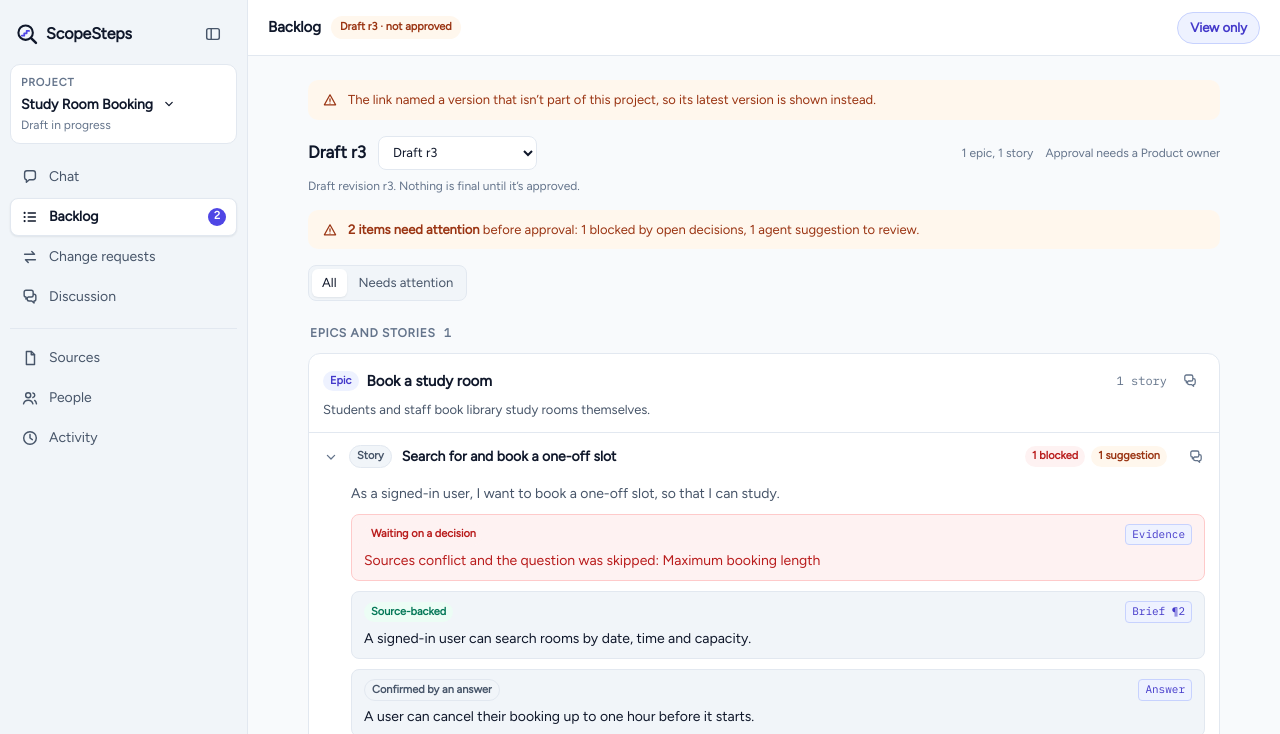
Test case: Backlog version history › shows the project’s latest version when the URL names one it does not have
The width and height of the screenshot is (1280, 734).
Expected: the heading "Draft r3" is shown, [308,140,366,165]
Expected: the text "The link named a version that isn’t part of this project, so its latest version is shown instead." is shown, [348,92,876,107]
Select "v1" in the dropdown named "Version" at (458, 152), box [378,136,537,170]
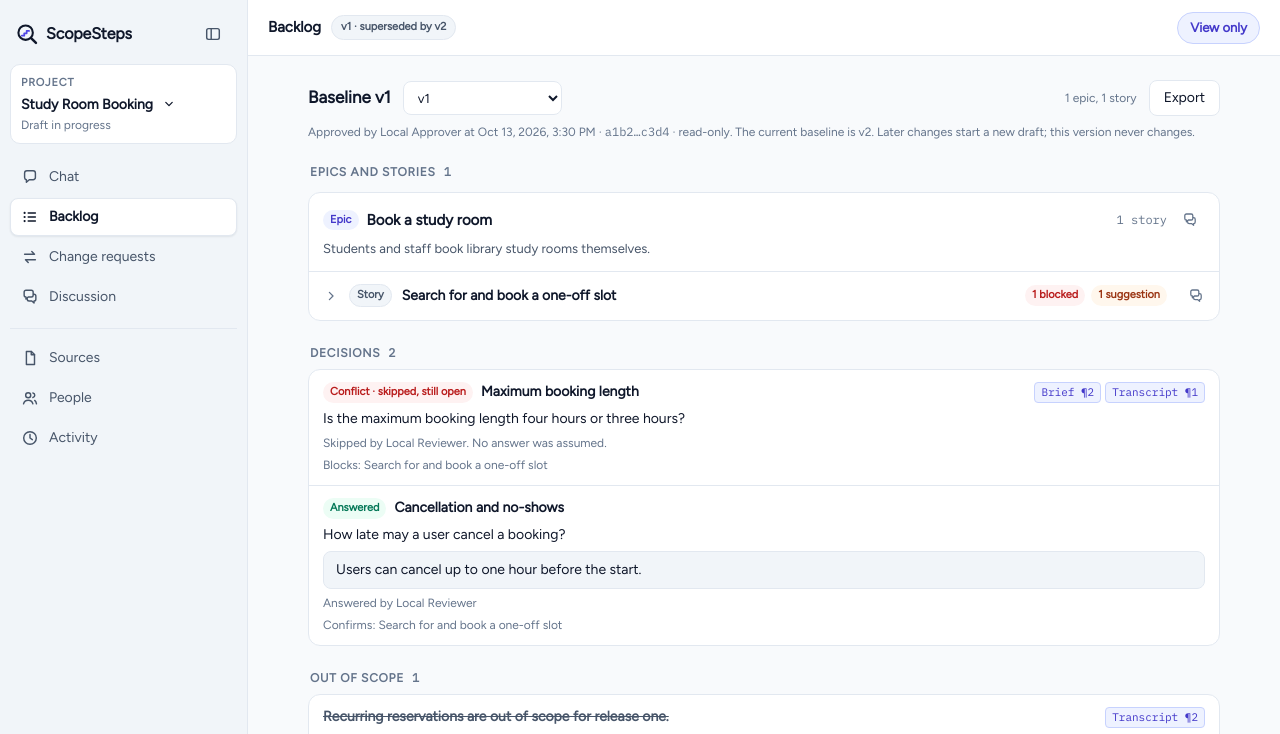
Now the heading "Baseline v1" is shown, box [308,85,391,111]
Now the text "isn’t part of this project" is gone
